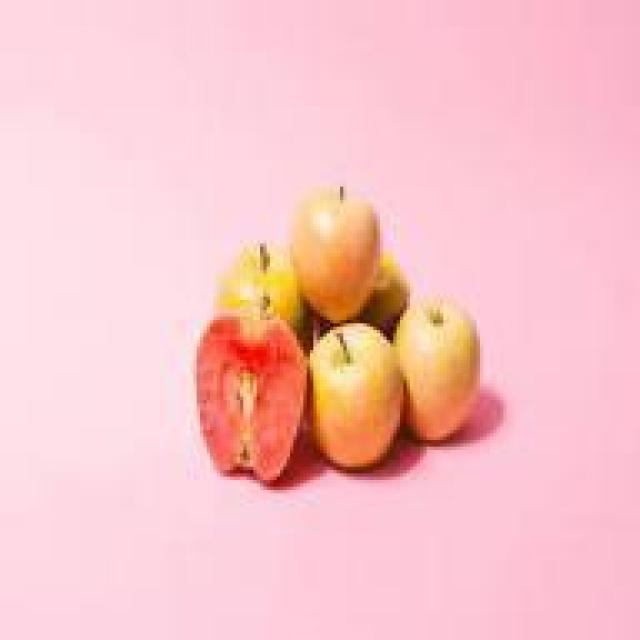apple: (194, 306, 314, 476), (307, 323, 413, 477), (393, 280, 487, 443), (213, 230, 320, 353), (293, 177, 377, 330)
